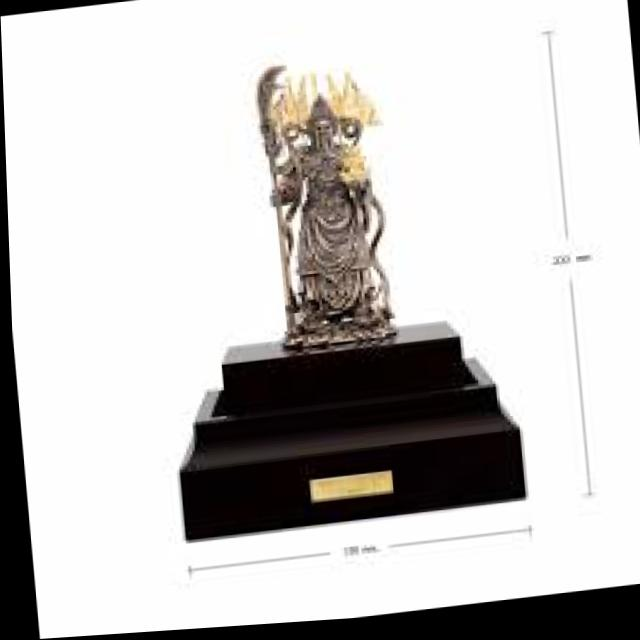Guan Yu: (240, 56, 406, 351)
